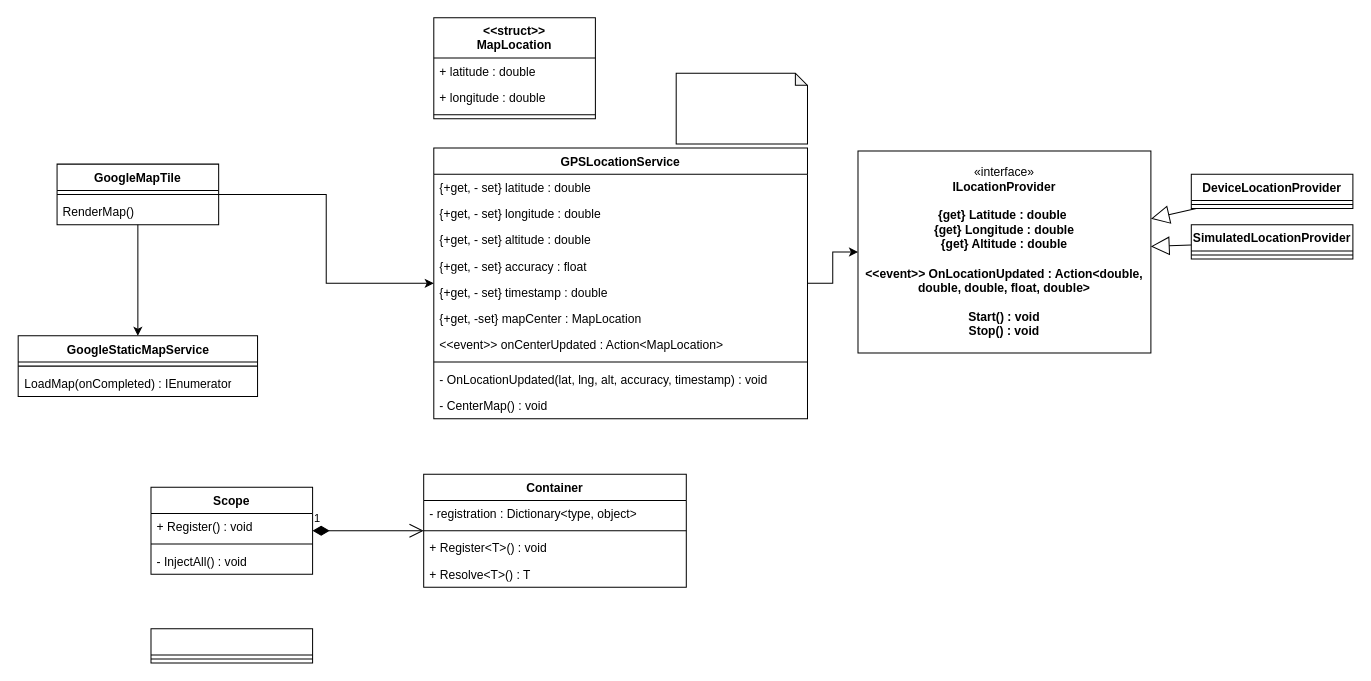
The diagram is 1371 pixels wide and 681 high, and some of its shapes have lost their labels. Here are the shapes that lost their labels. From the top down, the centre of each, then its label:
At point 741,108: "현재 위치 기반으로 맵의 중심을 갱신".
At point 231,645: "InjectAttribute".
